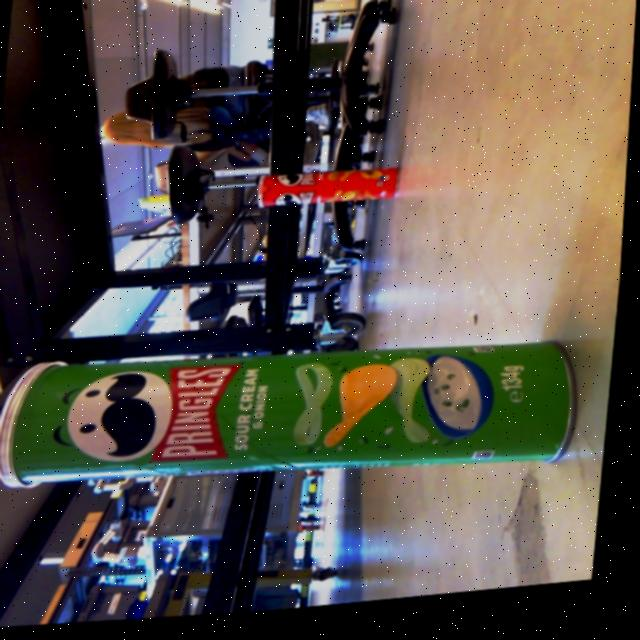greenpringles: (0, 305, 603, 518)
redpringles: (249, 153, 415, 238)
